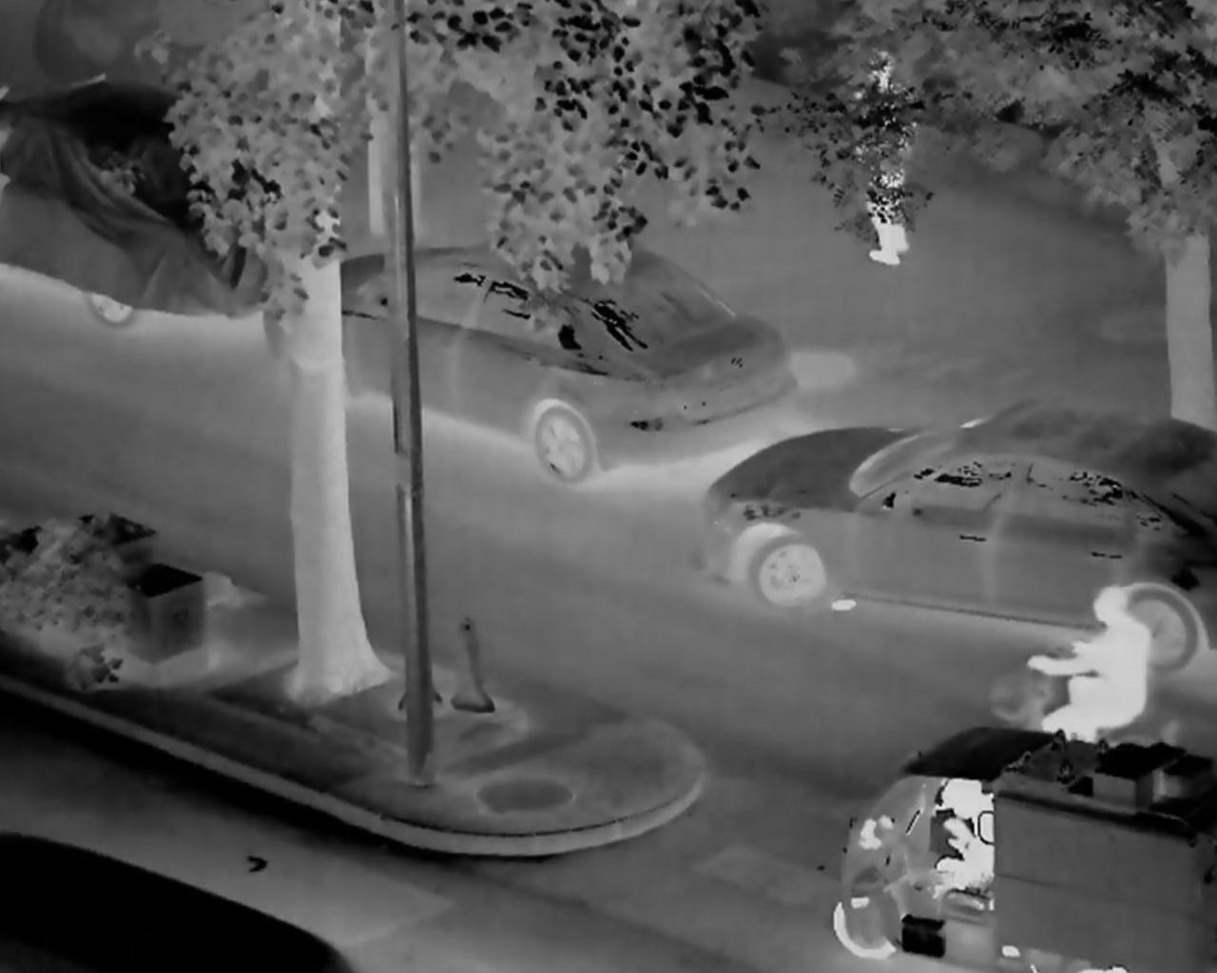person: (813, 59, 918, 271), (1036, 584, 1161, 758), (914, 773, 999, 903)
